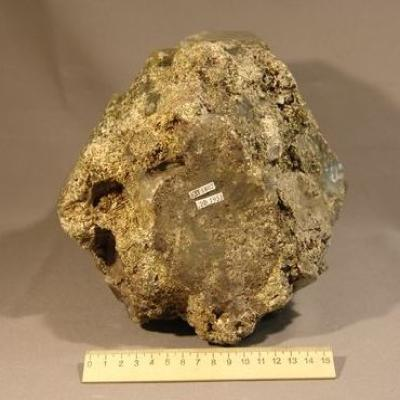mineralogy: (55, 30, 347, 347)
